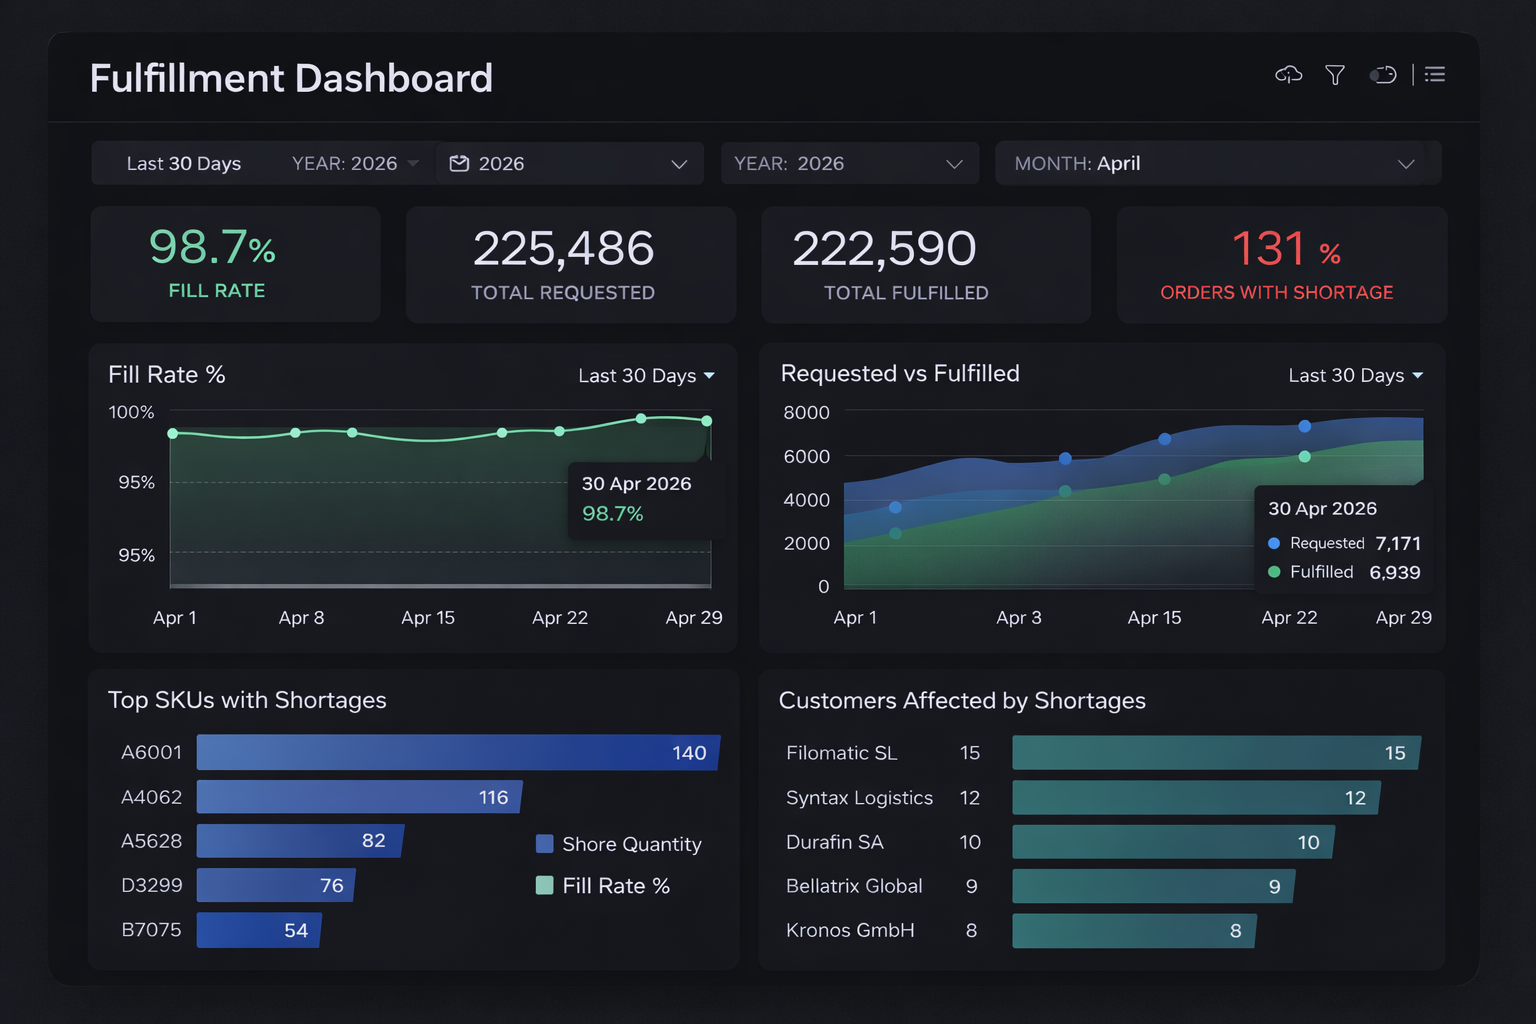

This screenshot's page, from the dashboard's own definition file:
{"tool":"powerbi","page":{"name":"Página 1","canvas":[1280,720],"ordinal":0},"visuals":[{"type":"textbox","box":[0,0,1280.3,70],"z":0},{"type":"card","fields":{"Values":["bi fact_fulfillment_line_day.Fill Rate %"]},"box":[0,192.7,283.4,95],"z":1000},{"type":"card","fields":{"Values":["bi fact_fulfillment_line_day.Total Requested"]},"box":[305.1,192.7,306.7,95],"z":2000},{"type":"card","fields":{"Values":["bi fact_fulfillment_line_day.Total Fulfilled"]},"box":[640.2,192.7,306.7,95],"z":3000},{"type":"card","fields":{"Values":["bi fact_fulfillment_line_day.Orders With Shortage %"]},"box":[968.6,192.7,306.7,95],"z":4000},{"type":"lineChart","title":"Fill Rate % por Fecha","fields":{"Category":["DimDate.Date"],"Y":["bi fact_fulfillment_line_day.Fill Rate %"]},"box":[1.7,301.4,611,198.1],"z":5000},{"type":"areaChart","fields":{"Category":["DimDate.Date"],"Y":["bi fact_fulfillment_line_day.Total Requested","bi fact_fulfillment_line_day.Total Fulfilled"]},"box":[639.3,301.4,634.3,198.1],"z":6000},{"type":"barChart","fields":{"Category":["bi fact_fulfillment_line_day.articulo_desc"],"Y":["bi fact_fulfillment_line_day.Total Shortage"]},"box":[0,499.5,612.7,214.8],"z":7000},{"type":"barChart","fields":{"Category":["bi fact_fulfillment_line_day.centro_nombre"],"Y":["bi fact_fulfillment_line_day.Orders With Shortage"]},"box":[639.3,499.5,636,214.8],"z":8000},{"type":"slicer","fields":{"Values":["DimDate.Date"]},"box":[6.7,70,276.7,106.7],"z":9000},{"type":"slicer","fields":{"Values":["DimDate.Year"]},"box":[303,70,307.9,107.5],"z":10000},{"type":"slicer","fields":{"Values":["DimDate.Month"]},"box":[638.5,70,307.9,107.5],"z":11000},{"type":"slicer","fields":{"Values":["bi fact_fulfillment_line_day.centro_nombre"]},"box":[969.2,70,306.2,107.5],"z":12000}]}

Visuals, with their boxes on the page's 1280x720 design canvas (x1, y1, x2, y2). These are canvas units, not pixel positions in the 1536x1024 screenshot, which may show the page scaled, cropped or inside an application window:
textbox: (left=0, top=0, right=1280, bottom=70)
card - bi fact_fulfillment_line_day.Fill Rate %: (left=0, top=193, right=283, bottom=288)
card - bi fact_fulfillment_line_day.Total Requested: (left=305, top=193, right=612, bottom=288)
card - bi fact_fulfillment_line_day.Total Fulfilled: (left=640, top=193, right=947, bottom=288)
card - bi fact_fulfillment_line_day.Orders With Shortage %: (left=969, top=193, right=1275, bottom=288)
"Fill Rate % por Fecha" lineChart: (left=2, top=301, right=613, bottom=500)
areaChart - DimDate.Date x bi fact_fulfillment_line_day.Total Requested: (left=639, top=301, right=1274, bottom=500)
barChart - bi fact_fulfillment_line_day.articulo_desc x bi fact_fulfillment_line_day.Total Shortage: (left=0, top=500, right=613, bottom=714)
barChart - bi fact_fulfillment_line_day.centro_nombre x bi fact_fulfillment_line_day.Orders With Shortage: (left=639, top=500, right=1275, bottom=714)
slicer - DimDate.Date: (left=7, top=70, right=283, bottom=177)
slicer - DimDate.Year: (left=303, top=70, right=611, bottom=178)
slicer - DimDate.Month: (left=638, top=70, right=946, bottom=178)
slicer - bi fact_fulfillment_line_day.centro_nombre: (left=969, top=70, right=1275, bottom=178)
